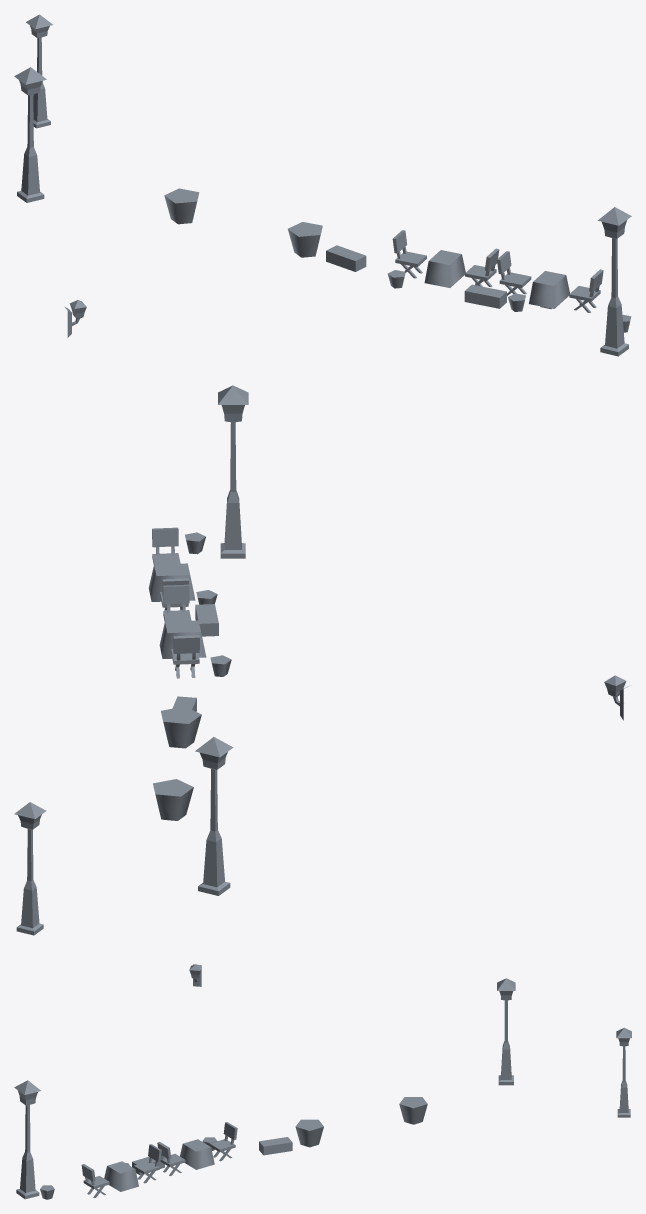
Rendered from gltf__Models__map__Village__startup__v_startup_mergedProp.glb.
The picture shows the model from 3 angles, top to bottom: view 1: azimuth 30°, elevation 25°; view 2: azimuth 150°, elevation 25°; view 3: azimuth 270°, elevation 25°; orthographic projection. The views are drawn at different scales.
Parts seen in each view (by area): view 1: v_startup_mergedProp; view 2: v_startup_mergedProp; view 3: v_startup_mergedProp.
Part boxes in pixels (x1=…): v_startup_mergedProp: x1=14, y1=14, x2=631, y2=356; v_startup_mergedProp: x1=14, y1=385, x2=628, y2=935; v_startup_mergedProp: x1=14, y1=964, x2=631, y2=1199.
Bounding box in the file's own units: 3.56 × 1.03 × 5.06.
Materials: 1 (1 with a texture image).
